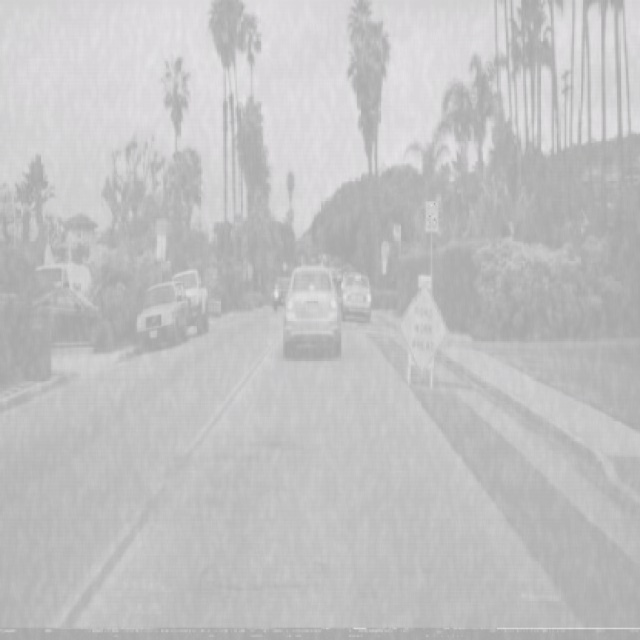speedLimit30: (424, 198, 438, 234)
